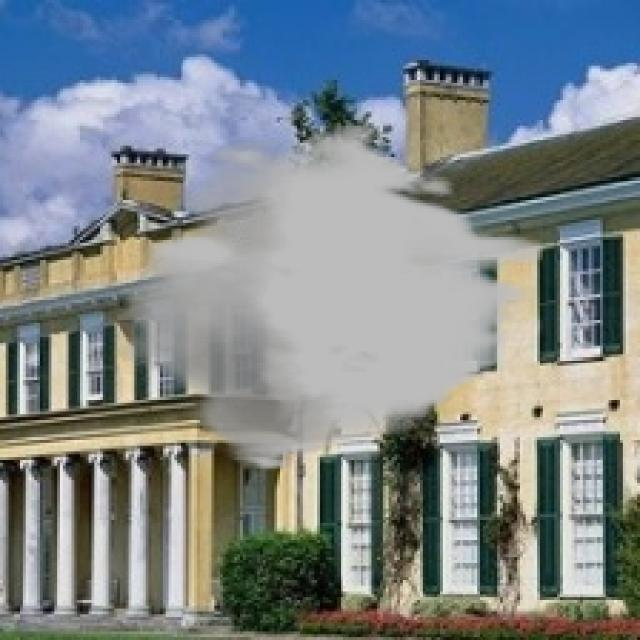smoke: (117, 123, 543, 471)
